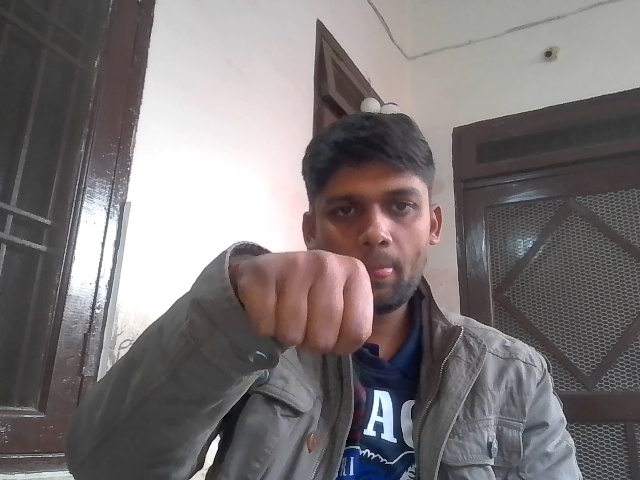Yes: (231, 234, 409, 382)
